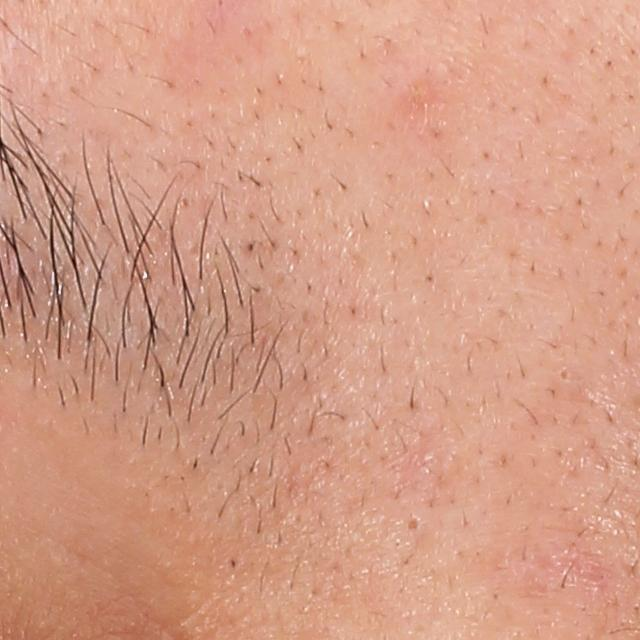comedo: (398, 513, 429, 541), (556, 365, 574, 384)
